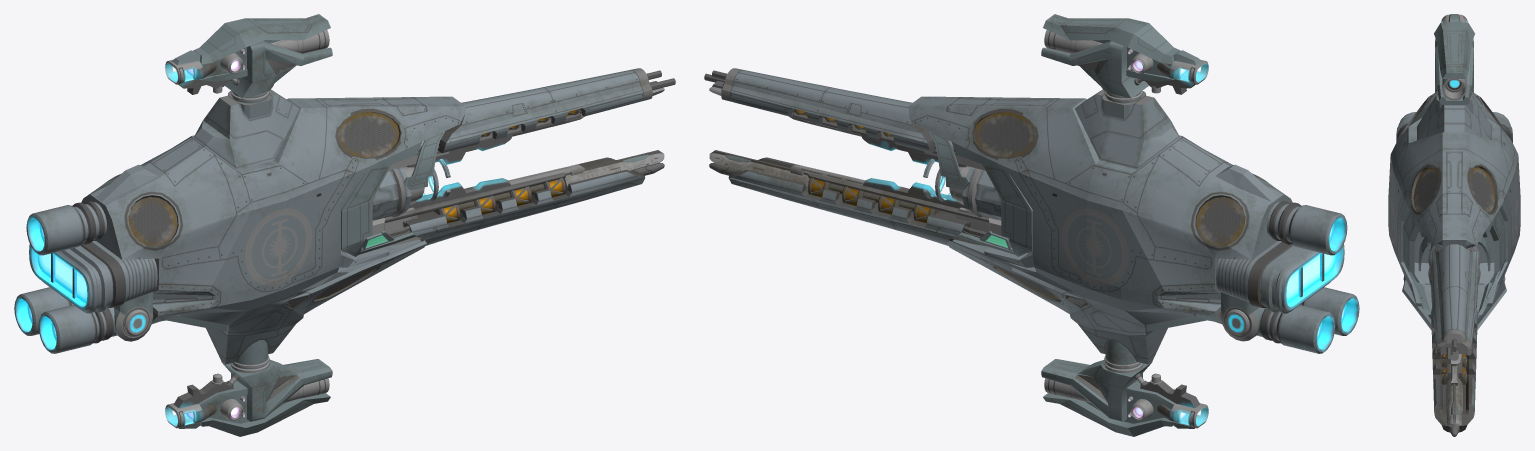
3 renders of one model, left to right at view 1: azimuth 30°, elevation 25°; view 2: azimuth 150°, elevation 25°; view 3: azimuth 270°, elevation 25°, orthographic. The views are drawn at different scales.
Visible parts, largest first — view 1: Object_3, Object_2, Object_4, Object_5; view 2: Object_3, Object_2, Object_4, Object_5; view 3: Object_3, Object_2, Object_4, Object_5.
Part boxes in pixels (bbox=[...]): Object_3: bbox=[14, 68, 652, 364]; Object_2: bbox=[53, 41, 664, 428]; Object_4: bbox=[51, 14, 675, 436]; Object_5: bbox=[172, 20, 421, 436]; Object_3: bbox=[721, 68, 1359, 364]; Object_2: bbox=[709, 41, 1322, 428]; Object_4: bbox=[704, 14, 1324, 436]; Object_5: bbox=[951, 20, 1201, 436]; Object_3: bbox=[1388, 86, 1520, 432]; Object_2: bbox=[1403, 14, 1505, 426]; Object_4: bbox=[1415, 14, 1493, 436]; Object_5: bbox=[1418, 22, 1490, 364].
Size of the model in its own units: 8.62 by 5.25 by 1.71.
2 materials, 2 textured.
